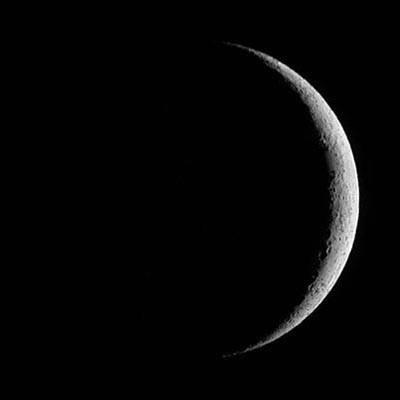moon: (219, 39, 361, 359)
